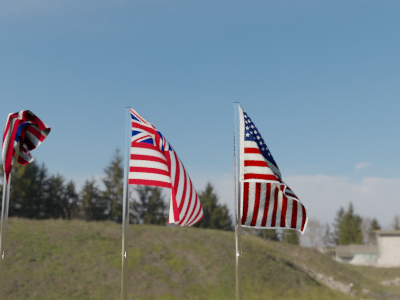America flag: (234, 102, 312, 235)
Liberia flag: (1, 107, 50, 183)
Malaysia flag: (129, 106, 210, 226)
